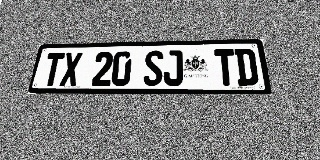0: (111, 51, 132, 86)
2: (92, 52, 114, 86)
D: (234, 49, 259, 85)
J: (163, 50, 183, 86)
S: (143, 50, 163, 86)
T: (214, 49, 237, 86), (41, 53, 65, 86)
X: (59, 52, 83, 86)
